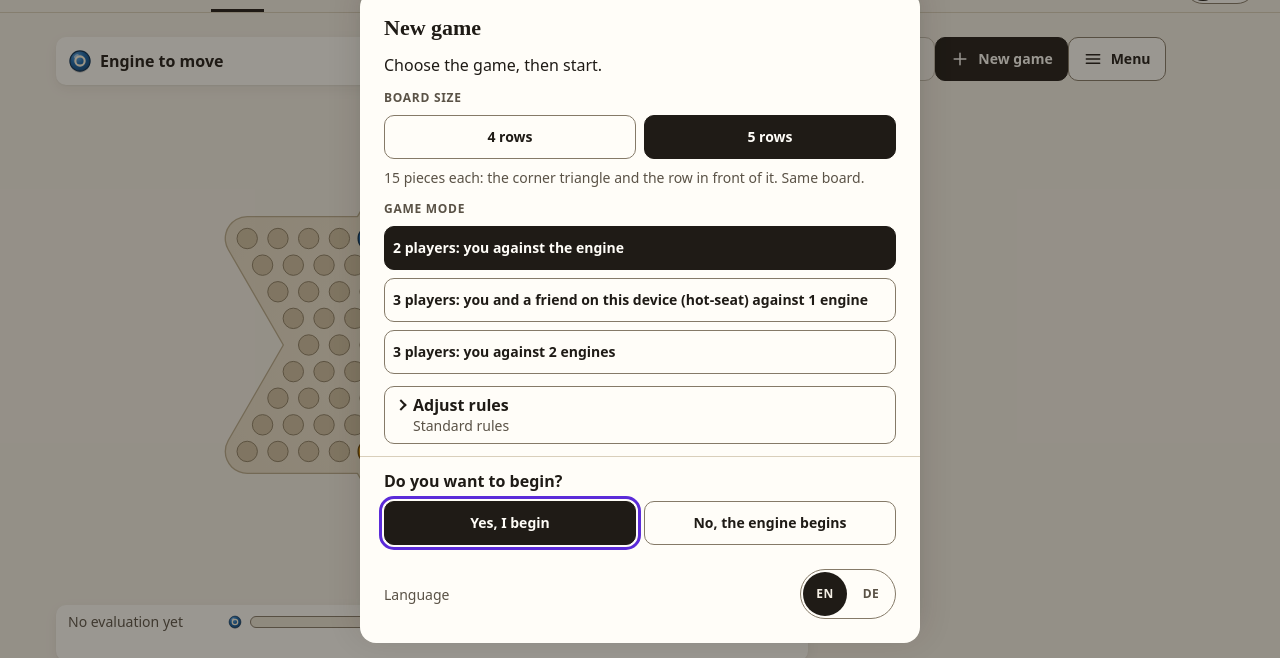
it: net hints in the play screen, small › does not open by itself once the flag is set; the chip opens it, the chip and the close button close it
Click the button "No, the engine begins" at (770, 523), box 644,501 -> 896,545
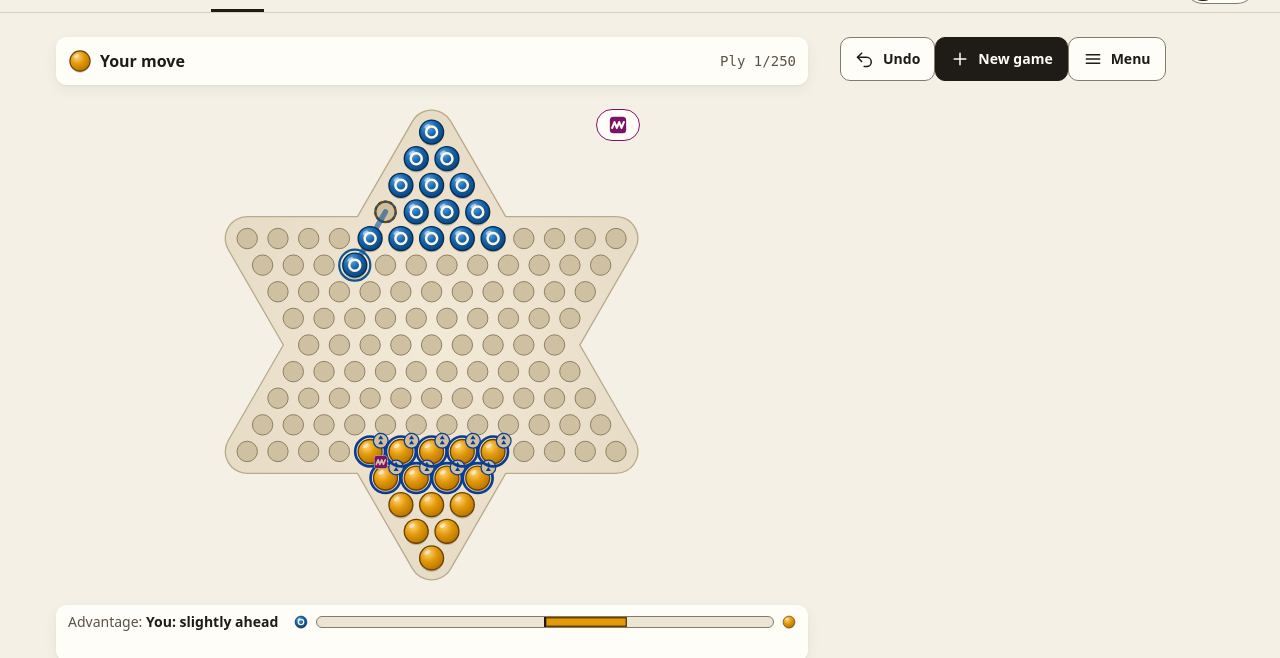
Click the button named "Net hints: The net disagrees in this position." at (618, 125), box 596,109 -> 640,141
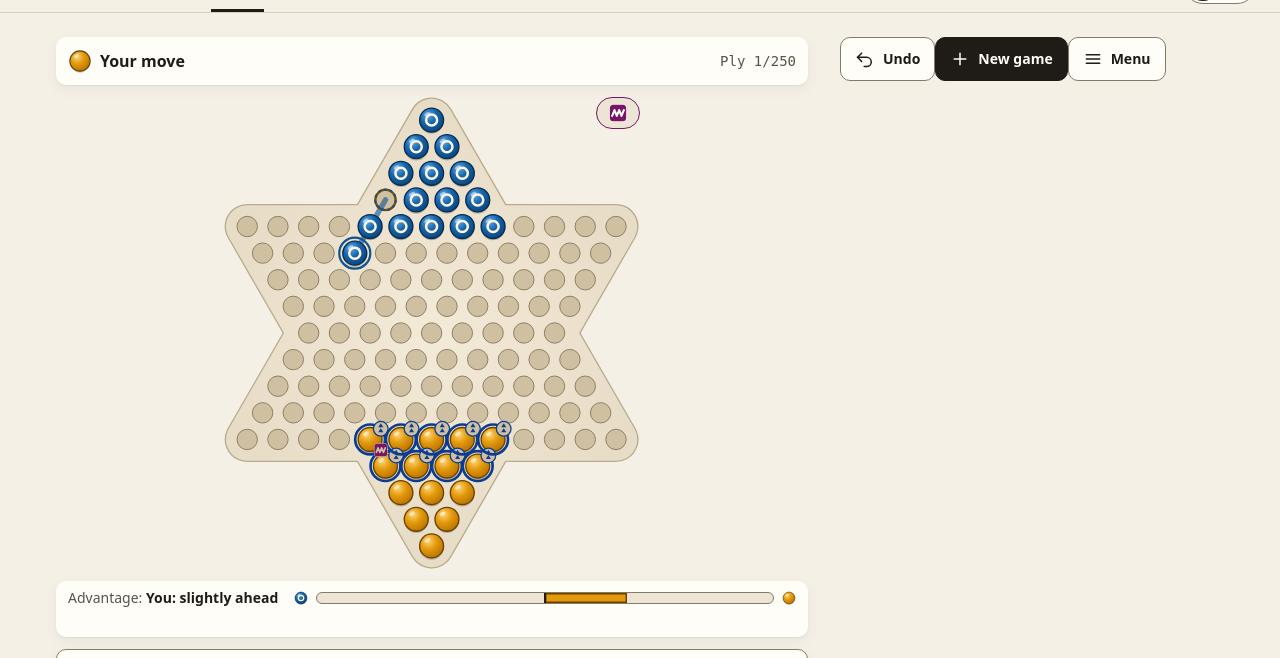
Click the button named "Net hints: The net disagrees in this position." at (618, 113), box 596,97 -> 640,129
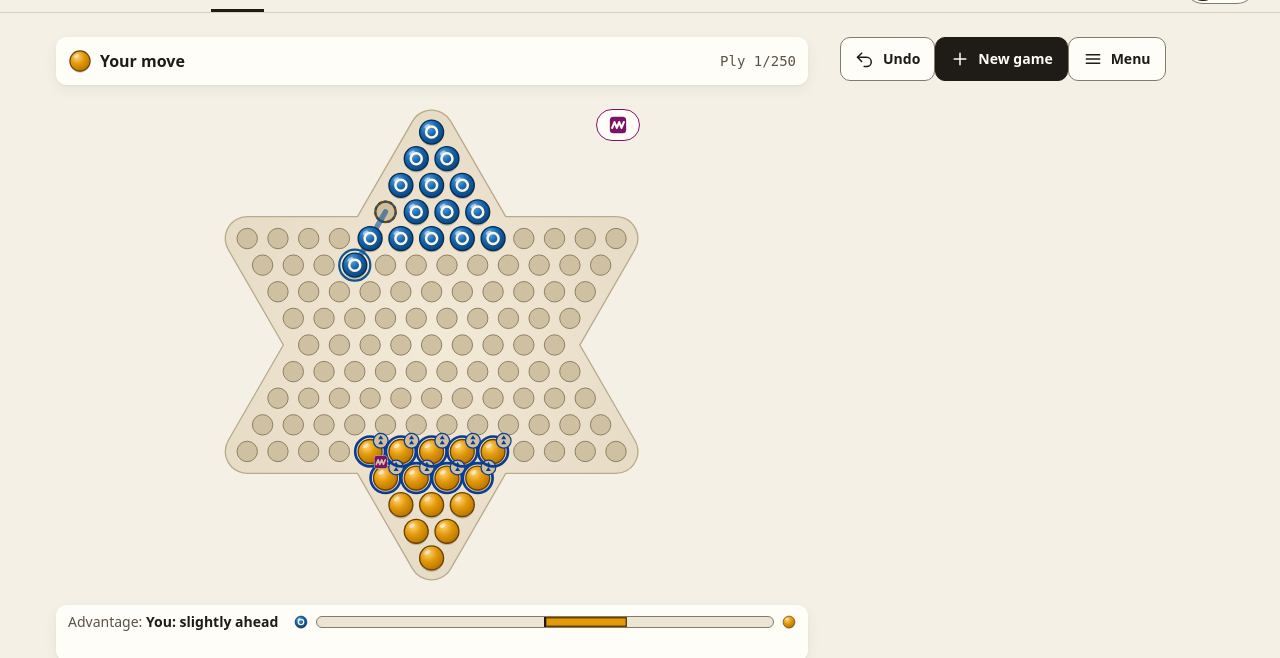
Click the button named "Net hints: The net disagrees in this position." at (618, 125), box 596,109 -> 640,141
(page scrolled)
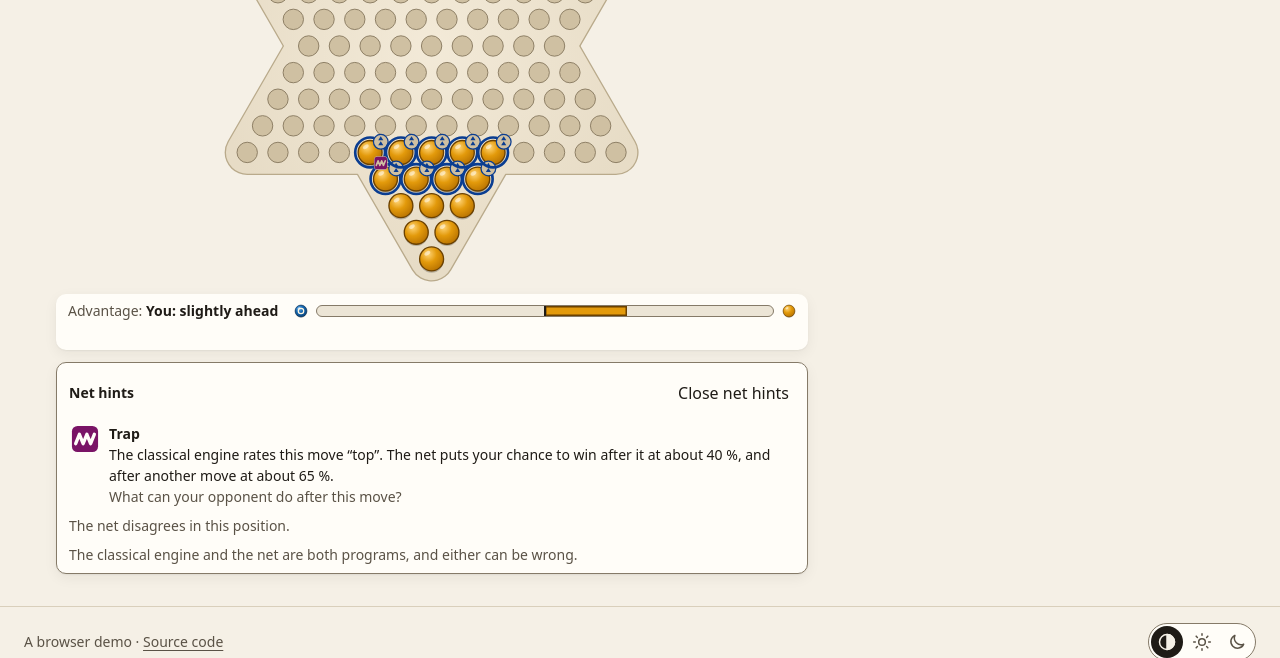
Click the button with class "ml-nethints-panel__close" at (734, 393), box 672,371 -> 795,415
(page scrolled)
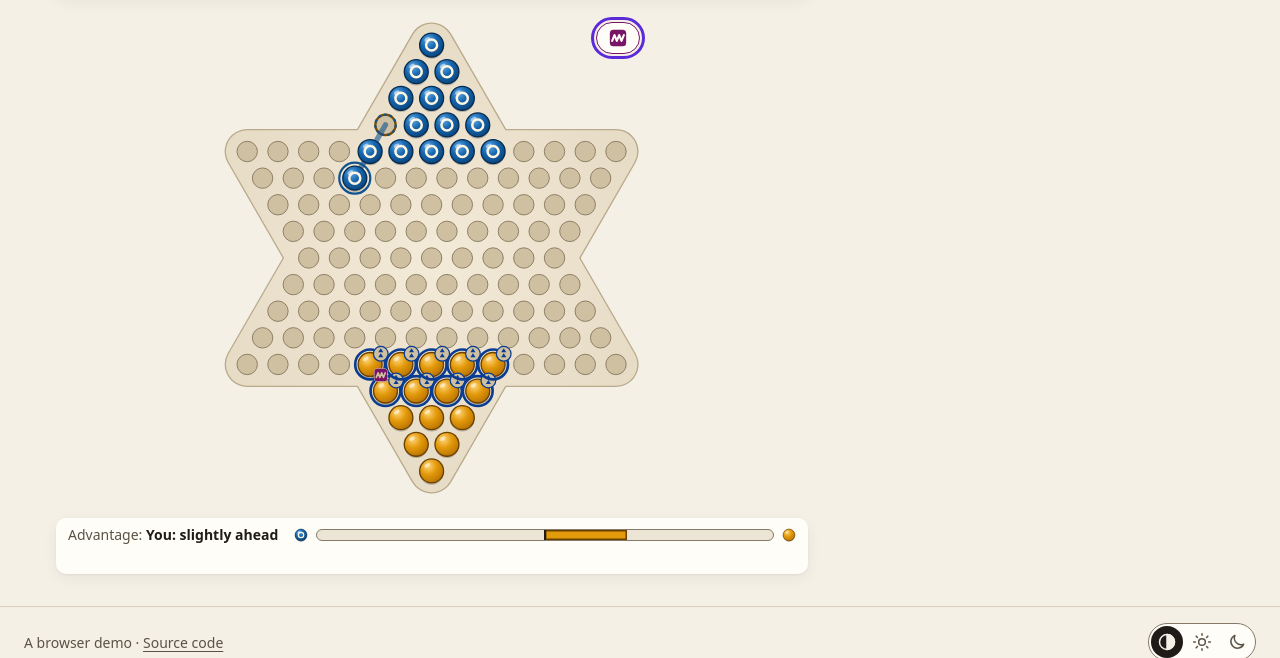
Expected: the element with id "ml-nethint-panel" is gone
